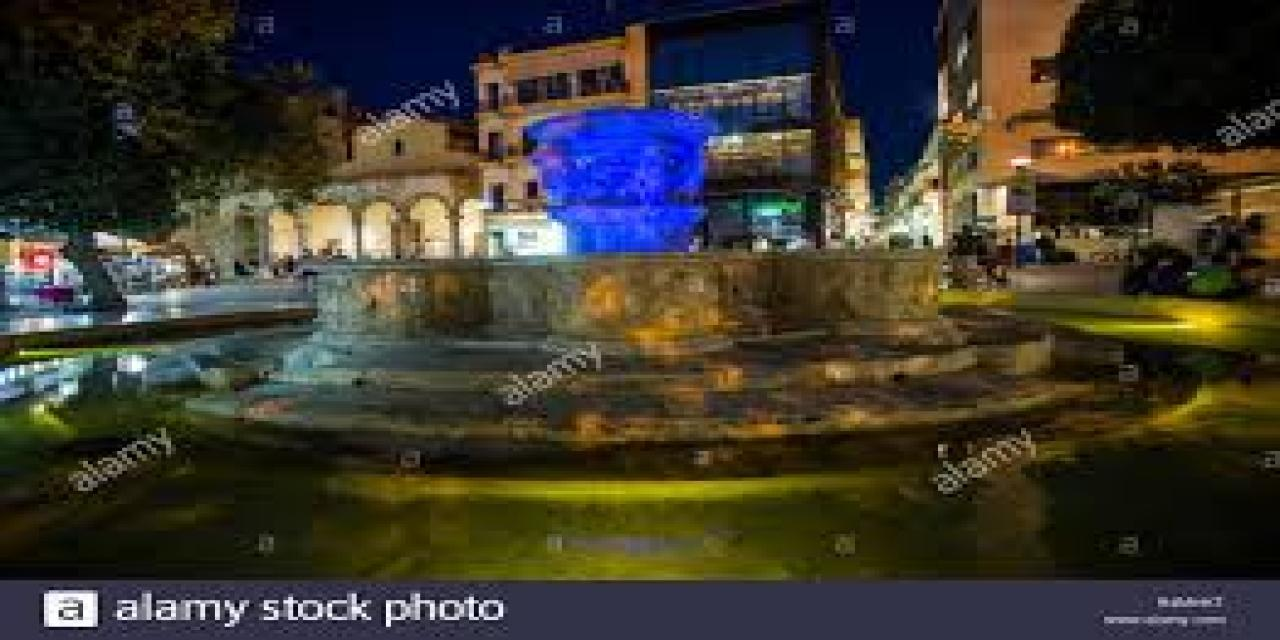Liontaria: (282, 113, 1041, 385)
